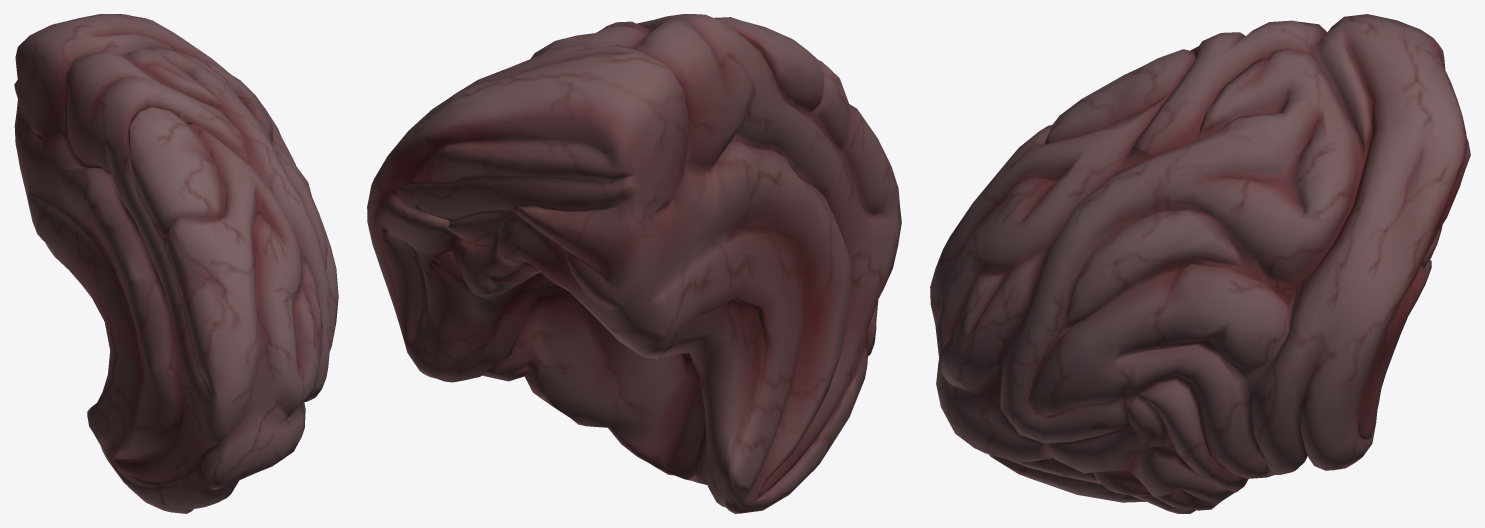
File: Frontal_Lobe.gltf
3 views of the same model, side by side, from view 1: azimuth 30°, elevation 25°; view 2: azimuth 150°, elevation 25°; view 3: azimuth 270°, elevation 25° (orthographic). The views are drawn at different scales.
Visible parts, largest first — view 1: Frontal_Lobe_Left; view 2: Frontal_Lobe_Left; view 3: Frontal_Lobe_Left.
Part boxes in pixels (x1,y1,x2,y2): Frontal_Lobe_Left: [14, 14, 338, 513]; Frontal_Lobe_Left: [367, 14, 901, 513]; Frontal_Lobe_Left: [930, 14, 1470, 513].
Bounding box in the file's own units: 6.34 × 9.77 × 9.8.
1 material, 1 textured.
